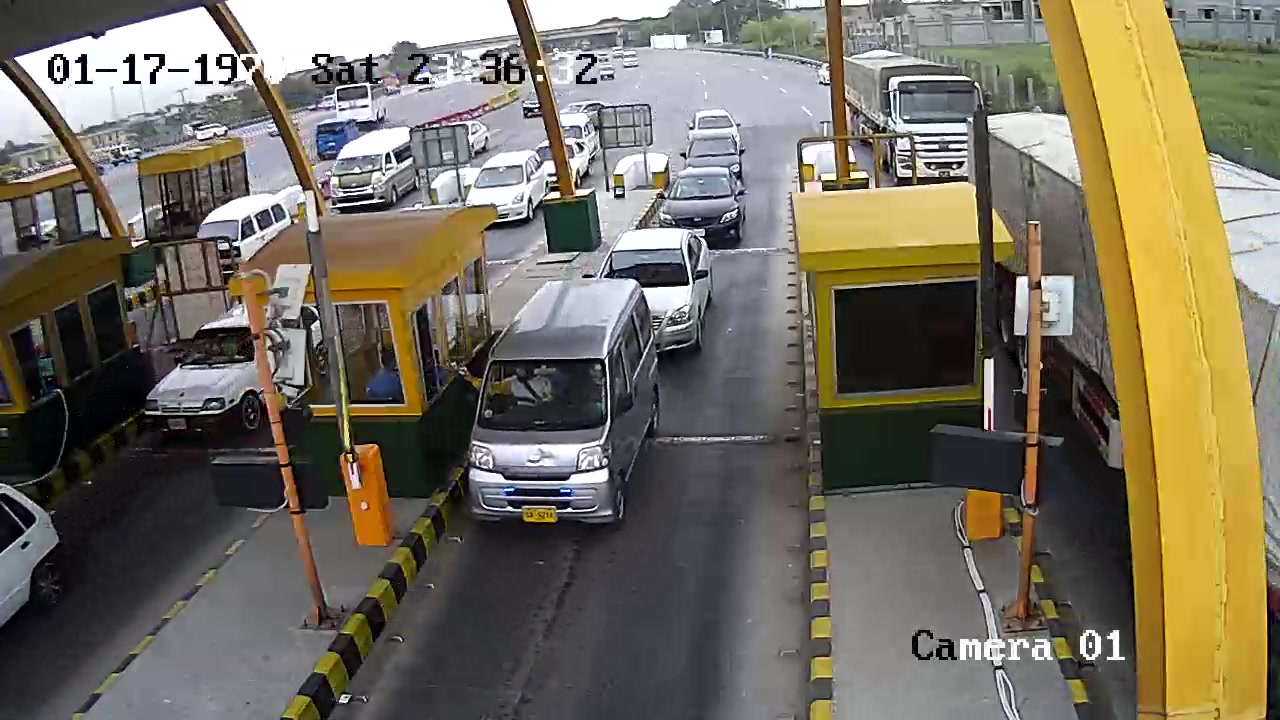F1: (463, 266, 660, 540)
